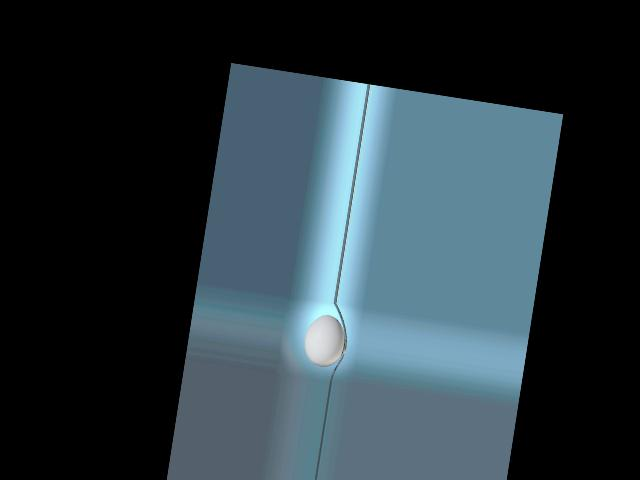egg: (301, 312, 348, 369)
